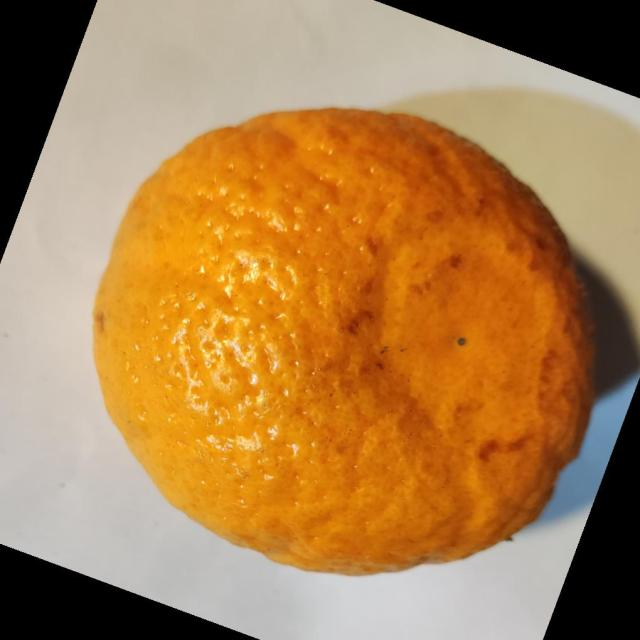fresh orange: (90, 105, 597, 576)
